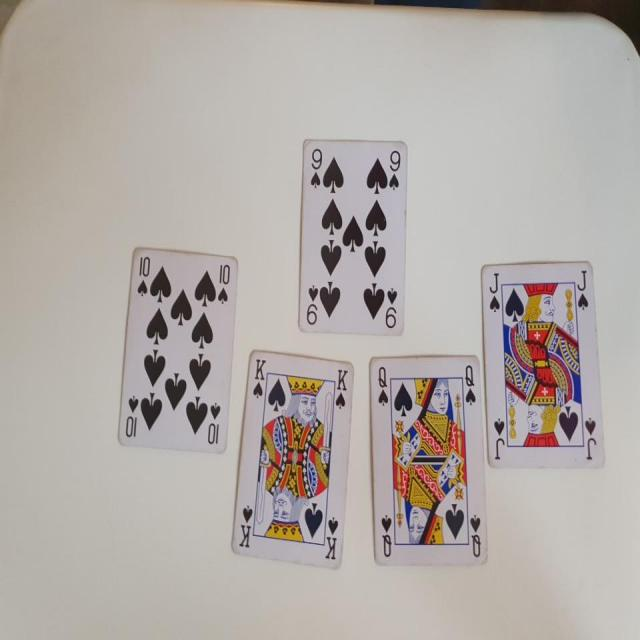10 Spades: (115, 238, 244, 462)
9 Spades: (295, 130, 409, 344)
J Spades: (479, 256, 612, 474)
K Spades: (229, 348, 361, 574)
Q Spades: (368, 359, 492, 578)
